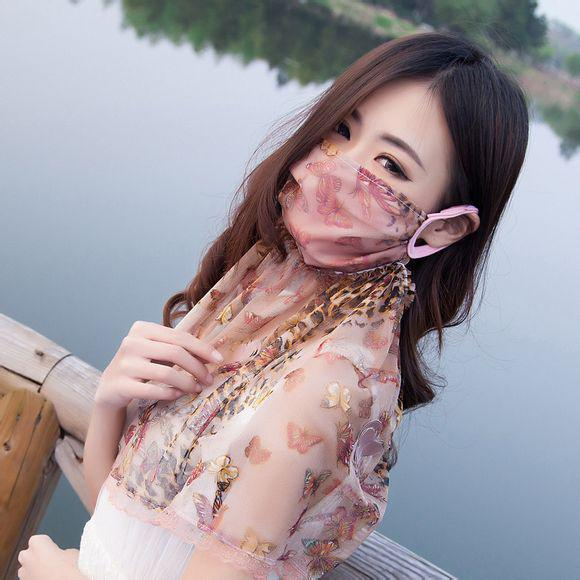OK: (272, 95, 438, 261)
